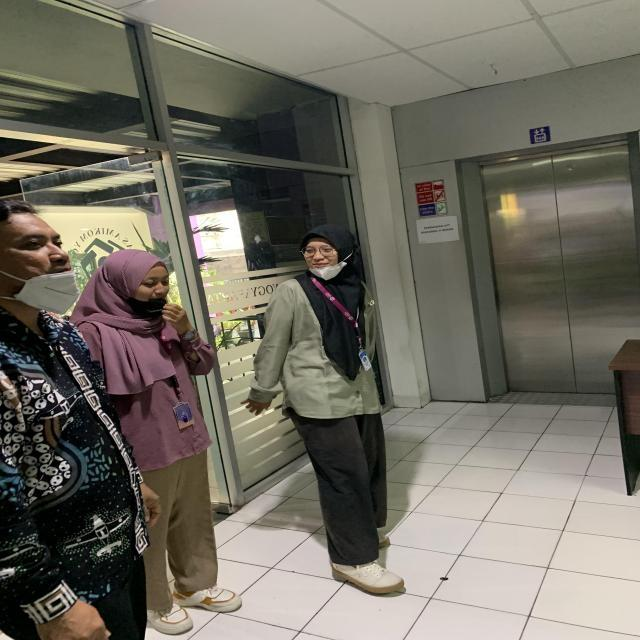hairnet: (8, 206, 88, 314), (297, 222, 365, 280), (112, 250, 168, 310)
